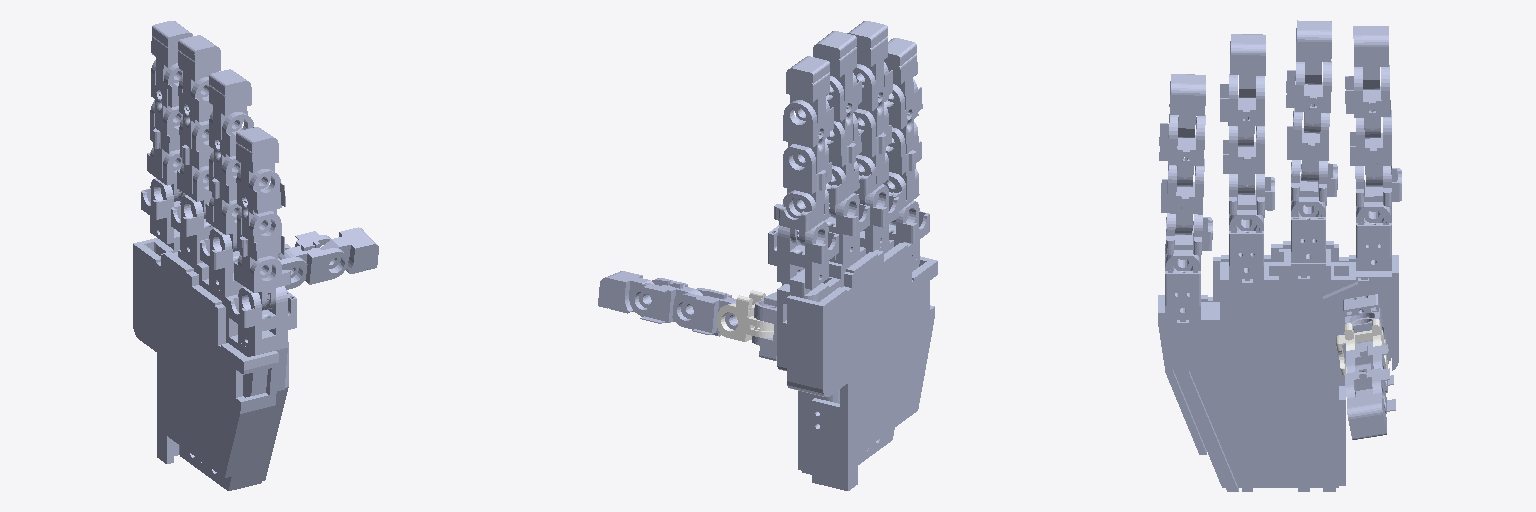
--- What the picture shows (computed from the rendered views, not written in the file) ---
3 views of the same robot in one strip: view 1: azimuth 30°, elevation 25°; view 2: azimuth 150°, elevation 25°; view 3: azimuth 270°, elevation 25° (orthographic).
Robot: pantheon_hand — 21 links, 20 joints (20 revolute); root link base_link; default pose: all joints at 0.
Links seen in each view (by area): view 1: base_link, 3_1_1_link, 3_2_3_link, 3_1_3_link, 3_5_2_link, 3_1_2_link, 3_3_3_link, 3_5_3_link, 3_1_link, 3_4_3_link, 3_4_1_link, 3_3_1_link (+8 smaller); view 2: base_link, 3_4_3_link, 3_4_1_link, 3_4_2_link, 3_5_1_link, 3_5_2_link, 3_3_3_link, 3_2_3_link, 3_5_link, 3_4_link, 3_5_3_link, 3_1_3_link (+9 smaller); view 3: base_link, 3_3_2_link, 3_1_2_link, 3_2_2_link, 3_4_2_link, 3_1_1_link, 3_3_1_link, 3_4_1_link, 3_2_1_link, 3_2_3_link, 3_1_3_link, 3_3_3_link (+9 smaller).
Boxes of the visible links, x1,y1,x2,y2 form: base_link: (133, 178, 296, 490); 3_1_1_link: (237, 208, 284, 284); 3_2_3_link: (209, 69, 251, 139); 3_1_3_link: (236, 127, 278, 196); 3_5_2_link: (278, 231, 347, 284); 3_1_2_link: (236, 167, 285, 240); 3_3_3_link: (178, 35, 220, 105); 3_5_3_link: (320, 227, 378, 273); 3_1_link: (234, 255, 290, 310); 3_4_3_link: (151, 21, 192, 90); 3_4_1_link: (150, 100, 182, 176); 3_3_1_link: (179, 118, 213, 193); base_link: (752, 184, 937, 490); 3_4_3_link: (786, 56, 829, 129); 3_4_1_link: (783, 142, 831, 219); 3_4_2_link: (783, 99, 833, 173); 3_5_1_link: (672, 288, 737, 336); 3_5_2_link: (631, 278, 702, 323); 3_3_3_link: (813, 31, 856, 103); 3_2_3_link: (847, 21, 887, 92); 3_5_link: (717, 290, 773, 341); 3_4_link: (774, 189, 828, 245); 3_5_3_link: (598, 271, 653, 313); 3_1_3_link: (884, 38, 917, 109); base_link: (1158, 197, 1398, 491); 3_3_2_link: (1286, 61, 1331, 133); 3_1_2_link: (1159, 114, 1205, 186); 3_2_2_link: (1220, 74, 1264, 146); 3_4_2_link: (1345, 65, 1390, 138); 3_1_1_link: (1161, 159, 1204, 234); 3_3_1_link: (1287, 108, 1329, 181); 3_4_1_link: (1350, 110, 1391, 186); 3_2_1_link: (1223, 126, 1264, 194); 3_2_3_link: (1230, 34, 1265, 97); 3_1_3_link: (1169, 74, 1205, 137); 3_3_3_link: (1296, 20, 1331, 84).
Bounding box of the posed robot: 0.0947 × 0.0827 × 0.1703 m (x, y, z).
21 mesh visuals loaded from 21 distinct referenced files (21 binary STL).

robot.urdf — pantheon_hand:
<?xml version="1.0" encoding="utf-8"?>
<!-- This URDF was automatically created by SolidWorks to URDF Exporter! Originally created by Stephen Brawner ([email redacted]) 
     Commit Version: 1.6.0-4-g7f85cfe  Build Version: 1.6.7995.38578
     For more information, please see http://wiki.ros.org/sw_urdf_exporter -->
<robot
  name="pantheon_hand">
  <link
    name="base_link">
    <inertial>
      <origin
        xyz="-0.0088293 0.0019617 0.005917"
        rpy="0 0 0" />
      <mass
        value="0.084016" />
      <inertia
        ixx="6.0876E-05"
        ixy="-7.5399E-08"
        ixz="3.4125E-07"
        iyy="3.6342E-05"
        iyz="-4.561E-06"
        izz="2.7735E-05" />
    </inertial>
    <visual>
      <origin
        xyz="0 0 0"
        rpy="0 0 0" />
      <geometry>
        <mesh
          filename="meshes/base_link.STL" />
      </geometry>
      <material
        name="">
        <color
          rgba="0.79216 0.81961 0.93333 1" />
      </material>
    </visual>
    <collision>
      <origin
        xyz="0 0 0"
        rpy="0 0 0" />
      <geometry>
        <mesh
          filename="meshes/base_link.STL" />
      </geometry>
    </collision>
  </link>
  <link
    name="3_1_link">
    <inertial>
      <origin
        xyz="0.000632948713201256 -0.0113601977031796 -0.00708457553329409"
        rpy="0 0 0" />
      <mass
        value="0.00143712940288946" />
      <inertia
        ixx="5.58975011242184E-08"
        ixy="5.20265325377832E-10"
        ixz="1.6392118735057E-09"
        iyy="6.51370366660432E-08"
        iyz="1.09096337854037E-09"
        izz="4.80361998414695E-08" />
    </inertial>
    <visual>
      <origin
        xyz="0 0 0"
        rpy="0 0 0" />
      <geometry>
        <mesh
          filename="meshes/3_1_link.STL" />
      </geometry>
      <material
        name="">
        <color
          rgba="0.792156862745098 0.819607843137255 0.933333333333333 1" />
      </material>
    </visual>
    <collision>
      <origin
        xyz="0 0 0"
        rpy="0 0 0" />
      <geometry>
        <mesh
          filename="meshes/3_1_link.STL" />
      </geometry>
    </collision>
  </link>
  <joint
    name="3_1_joint"
    type="revolute">
    <origin
      xyz="0.0037497 -0.030164 0.038749"
      rpy="3.1416 0.039589 1.5708" />
    <parent
      link="base_link" />
    <child
      link="3_1_link" />
    <axis
      xyz="0 1 0" />
    <limit
      lower="-3.14"
      upper="3.14"
      effort="0"
      velocity="0" />
  </joint>
  <link
    name="3_1_1_link">
    <inertial>
      <origin
        xyz="-3.92102905052705E-05 -0.000199146290594088 -0.00907165890077516"
        rpy="0 0 0" />
      <mass
        value="0.0020563530564885" />
      <inertia
        ixx="1.07744671847437E-07"
        ixy="1.60574868120486E-11"
        ixz="-7.8791562322019E-11"
        iyy="1.01748380513167E-07"
        iyz="3.56214234918847E-09"
        izz="5.27452392510831E-08" />
    </inertial>
    <visual>
      <origin
        xyz="0 0 0"
        rpy="0 0 0" />
      <geometry>
        <mesh
          filename="meshes/3_1_1_link.STL" />
      </geometry>
      <material
        name="">
        <color
          rgba="0.792156862745098 0.819607843137255 0.933333333333333 1" />
      </material>
    </visual>
    <collision>
      <origin
        xyz="0 0 0"
        rpy="0 0 0" />
      <geometry>
        <mesh
          filename="meshes/3_1_1_link.STL" />
      </geometry>
    </collision>
  </link>
  <joint
    name="3_1_1_joint"
    type="revolute">
    <origin
      xyz="-0.0002 -0.0119 -0.013003"
      rpy="0 0 0" />
    <parent
      link="3_1_link" />
    <child
      link="3_1_1_link" />
    <axis
      xyz="1 0 0" />
    <limit
      lower="-3.14"
      upper="3.14"
      effort="0"
      velocity="0" />
  </joint>
  <link
    name="3_1_2_link">
    <inertial>
      <origin
        xyz="-8.12908772386822E-05 1.68560909165616E-05 -0.00867162019943626"
        rpy="0 0 0" />
      <mass
        value="0.00182203187679926" />
      <inertia
        ixx="8.9566713499434E-08"
        ixy="2.02762392830801E-13"
        ixz="-5.29411112427957E-10"
        iyy="8.76021510299218E-08"
        iyz="3.51905980500272E-09"
        izz="4.61913662604361E-08" />
    </inertial>
    <visual>
      <origin
        xyz="0 0 0"
        rpy="0 0 0" />
      <geometry>
        <mesh
          filename="meshes/3_1_2_link.STL" />
      </geometry>
      <material
        name="">
        <color
          rgba="0.792156862745098 0.819607843137255 0.933333333333333 1" />
      </material>
    </visual>
    <collision>
      <origin
        xyz="0 0 0"
        rpy="0 0 0" />
      <geometry>
        <mesh
          filename="meshes/3_1_2_link.STL" />
      </geometry>
    </collision>
  </link>
  <joint
    name="3_1_2_joint"
    type="revolute">
    <origin
      xyz="-0.000350000000000003 0 -0.018"
      rpy="0 0 0" />
    <parent
      link="3_1_1_link" />
    <child
      link="3_1_2_link" />
    <axis
      xyz="1 0 0" />
    <limit
      lower="-3.14"
      upper="3.14"
      effort="0"
      velocity="0" />
  </joint>
  <link
    name="3_1_3_link">
    <inertial>
      <origin
        xyz="-5.12117202697282E-06 -0.000725635823516674 -0.0096227705070633"
        rpy="0 0 0" />
      <mass
        value="0.00198313864642305" />
      <inertia
        ixx="8.17004014457898E-08"
        ixy="-4.8742914220502E-11"
        ixz="3.90166589251583E-11"
        iyy="7.95226212822687E-08"
        iyz="4.57373117943126E-09"
        izz="3.93747699115029E-08" />
    </inertial>
    <visual>
      <origin
        xyz="0 0 0"
        rpy="0 0 0" />
      <geometry>
        <mesh
          filename="meshes/3_1_3_link.STL" />
      </geometry>
      <material
        name="">
        <color
          rgba="0.792156862745098 0.819607843137255 0.933333333333333 1" />
      </material>
    </visual>
    <collision>
      <origin
        xyz="0 0 0"
        rpy="0 0 0" />
      <geometry>
        <mesh
          filename="meshes/3_1_3_link.STL" />
      </geometry>
    </collision>
  </link>
  <joint
    name="3_1_3_joint"
    type="revolute">
    <origin
      xyz="-0.000200000000000006 0 -0.0175"
      rpy="0 0 0" />
    <parent
      link="3_1_2_link" />
    <child
      link="3_1_3_link" />
    <axis
      xyz="1 0 0" />
    <limit
      lower="-3.14"
      upper="3.14"
      effort="0"
      velocity="0" />
  </joint>
  <link
    name="3_2_link">
    <inertial>
      <origin
        xyz="0.00063294859234099 -0.0113615538901578 -0.00708457533316939"
        rpy="0 0 0" />
      <mass
        value="0.00143712953132904" />
      <inertia
        ixx="5.58975033099214E-08"
        ixy="5.20266102758222E-10"
        ixz="1.6392131646724E-09"
        iyy="6.5137038425299E-08"
        iyz="1.09096306332321E-09"
        izz="4.80362002109154E-08" />
    </inertial>
    <visual>
      <origin
        xyz="0 0 0"
        rpy="0 0 0" />
      <geometry>
        <mesh
          filename="meshes/3_2_link.STL" />
      </geometry>
      <material
        name="">
        <color
          rgba="0.792156862745098 0.819607843137255 0.933333333333333 1" />
      </material>
    </visual>
    <collision>
      <origin
        xyz="0 0 0"
        rpy="0 0 0" />
      <geometry>
        <mesh
          filename="meshes/3_2_link.STL" />
      </geometry>
    </collision>
  </link>
  <joint
    name="3_2_joint"
    type="revolute">
    <origin
      xyz="0.0039511 -0.0086642 0.053749"
      rpy="3.1416 0.014515 1.5708" />
    <parent
      link="base_link" />
    <child
      link="3_2_link" />
    <axis
      xyz="0 1 0" />
    <limit
      lower="-3.14"
      upper="3.14"
      effort="0"
      velocity="0" />
  </joint>
  <link
    name="3_2_1_link">
    <inertial>
      <origin
        xyz="-3.92102951234791E-05 -0.000199146290408819 -0.0090716588987563"
        rpy="0 0 0" />
      <mass
        value="0.00205635305680151" />
      <inertia
        ixx="1.07744671877702E-07"
        ixy="1.60575206204026E-11"
        ixz="-7.87915223719029E-11"
        iyy="1.0174838055022E-07"
        iyz="3.56214233600382E-09"
        izz="5.27452392562962E-08" />
    </inertial>
    <visual>
      <origin
        xyz="0 0 0"
        rpy="0 0 0" />
      <geometry>
        <mesh
          filename="meshes/3_2_1_link.STL" />
      </geometry>
      <material
        name="">
        <color
          rgba="0.792156862745098 0.819607843137255 0.933333333333333 1" />
      </material>
    </visual>
    <collision>
      <origin
        xyz="0 0 0"
        rpy="0 0 0" />
      <geometry>
        <mesh
          filename="meshes/3_2_1_link.STL" />
      </geometry>
    </collision>
  </link>
  <joint
    name="3_2_1_joint"
    type="revolute">
    <origin
      xyz="-0.00020000000000002 -0.0119011019123433 -0.0130026361286545"
      rpy="0 0 0" />
    <parent
      link="3_2_link" />
    <child
      link="3_2_1_link" />
    <axis
      xyz="1 0 0" />
    <limit
      lower="-3.14"
      upper="3.14"
      effort="0"
      velocity="0" />
  </joint>
  <link
    name="3_2_2_link">
    <inertial>
      <origin
        xyz="-8.12908993588907E-05 1.68563261277177E-05 -0.00867162007442783"
        rpy="0 0 0" />
      <mass
        value="0.00182203208137363" />
      <inertia
        ixx="8.95667163326566E-08"
        ixy="2.02473785078912E-13"
        ixz="-5.29410818196615E-10"
        iyy="8.76021515939074E-08"
        iyz="3.519060085145E-09"
        izz="4.61913683267398E-08" />
    </inertial>
    <visual>
      <origin
        xyz="0 0 0"
        rpy="0 0 0" />
      <geometry>
        <mesh
          filename="meshes/3_2_2_link.STL" />
      </geometry>
      <material
        name="">
        <color
          rgba="0.792156862745098 0.819607843137255 0.933333333333333 1" />
      </material>
    </visual>
    <collision>
      <origin
        xyz="0 0 0"
        rpy="0 0 0" />
      <geometry>
        <mesh
          filename="meshes/3_2_2_link.STL" />
      </geometry>
    </collision>
  </link>
  <joint
    name="3_2_2_joint"
    type="revolute">
    <origin
      xyz="-0.000349999999999948 0 -0.018"
      rpy="0 0 0" />
    <parent
      link="3_2_1_link" />
    <child
      link="3_2_2_link" />
    <axis
      xyz="1 0 0" />
    <limit
      lower="-3.14"
      upper="3.14"
      effort="0"
      velocity="0" />
  </joint>
  <link
    name="3_2_3_link">
    <inertial>
      <origin
        xyz="-5.1211720269867E-06 -0.000725635823516674 -0.00962277050706326"
        rpy="0 0 0" />
      <mass
        value="0.00198313864642305" />
      <inertia
        ixx="8.17004014457897E-08"
        ixy="-4.87429142204929E-11"
        ixz="3.90166589251253E-11"
        iyy="7.95226212822687E-08"
        iyz="4.57373117943127E-09"
        izz="3.9374769911503E-08" />
    </inertial>
    <visual>
      <origin
        xyz="0 0 0"
        rpy="0 0 0" />
      <geometry>
        <mesh
          filename="meshes/3_2_3_link.STL" />
      </geometry>
      <material
        name="">
        <color
          rgba="0.792156862745098 0.819607843137255 0.933333333333333 1" />
      </material>
    </visual>
    <collision>
      <origin
        xyz="0 0 0"
        rpy="0 0 0" />
      <geometry>
        <mesh
          filename="meshes/3_2_3_link.STL" />
      </geometry>
    </collision>
  </link>
  <joint
    name="3_2_3_joint"
    type="revolute">
    <origin
      xyz="0.000199999999999964 0 -0.0175"
      rpy="0 0 0" />
    <parent
      link="3_2_2_link" />
    <child
      link="3_2_3_link" />
    <axis
      xyz="1 0 0" />
    <limit
      lower="-3.14"
      upper="3.14"
      effort="0"
      velocity="0" />
  </joint>
  <link
    name="3_3_link">
    <inertial>
      <origin
        xyz="0.000632948642662452 -0.0113611515206792 -0.00708457541578034"
        rpy="0 0 0" />
      <mass
        value="0.00143712947911098" />
      <inertia
        ixx="5.58975024196684E-08"
        ixy="5.20265785641294E-10"
        ixz="1.63921265059041E-09"
        iyy="6.51370377317784E-08"
        iyz="1.0909631906409E-09"
        izz="4.80362000895725E-08" />
    </inertial>
    <visual>
      <origin
        xyz="0 0 0"
        rpy="0 0 0" />
      <geometry>
        <mesh
          filename="meshes/3_3_link.STL" />
      </geometry>
      <material
        name="">
        <color
          rgba="0.792156862745098 0.819607843137255 0.933333333333333 1" />
      </material>
    </visual>
    <collision>
      <origin
        xyz="0 0 0"
        rpy="0 0 0" />
      <geometry>
        <mesh
          filename="meshes/3_3_link.STL" />
      </geometry>
    </collision>
  </link>
  <joint
    name="3_3_joint"
    type="revolute">
    <origin
      xyz="0.0038507 0.012336 0.058749"
      rpy="3.1416 0.024761 1.5708" />
    <parent
      link="base_link" />
    <child
      link="3_3_link" />
    <axis
      xyz="0 1 0" />
    <limit
      lower="-3.14"
      upper="3.14"
      effort="0"
      velocity="0" />
  </joint>
  <link
    name="3_3_1_link">
    <inertial>
      <origin
        xyz="-3.92102933091457E-05 -0.000199146290487145 -0.00907165889953535"
        rpy="0 0 0" />
      <mass
        value="0.00205635305667756" />
      <inertia
        ixx="1.07744671865998E-07"
        ixy="1.60575073452117E-11"
        ixz="-7.87915380776806E-11"
        iyy="1.0174838053584E-07"
        iyz="3.56214234110638E-09"
        izz="5.27452392540909E-08" />
    </inertial>
    <visual>
      <origin
        xyz="0 0 0"
        rpy="0 0 0" />
      <geometry>
        <mesh
          filename="meshes/3_3_1_link.STL" />
      </geometry>
      <material
        name="">
        <color
          rgba="0.792156862745098 0.819607843137255 0.933333333333333 1" />
      </material>
    </visual>
    <collision>
      <origin
        xyz="0 0 0"
        rpy="0 0 0" />
      <geometry>
        <mesh
          filename="meshes/3_3_1_link.STL" />
      </geometry>
    </collision>
  </link>
  <joint
    name="3_3_1_joint"
    type="revolute">
    <origin
      xyz="0.000199999999999999 -0.0119006996144669 -0.0130026361286544"
      rpy="0 0 0" />
    <parent
      link="3_3_link" />
    <child
      link="3_3_1_link" />
    <axis
      xyz="1 0 0" />
    <limit
      lower="-3.14"
      upper="3.14"
      effort="0"
      velocity="0" />
  </joint>
  <link
    name="3_3_2_link">
    <inertial>
      <origin
        xyz="-8.12909390994904E-05 1.68563153448431E-05 -0.00867162002485852"
        rpy="0 0 0" />
      <mass
        value="0.00182203211107831" />
      <inertia
        ixx="8.95667166953815E-08"
        ixy="2.02741982873797E-13"
        ixz="-5.29410783975345E-10"
        iyy="8.76021518395639E-08"
        iyz="3.51906008362107E-09"
        izz="4.61913685781039E-08" />
    </inertial>
    <visual>
      <origin
        xyz="0 0 0"
        rpy="0 0 0" />
      <geometry>
        <mesh
          filename="meshes/3_3_2_link.STL" />
      </geometry>
      <material
        name="">
        <color
          rgba="0.792156862745098 0.819607843137255 0.933333333333333 1" />
      </material>
    </visual>
    <collision>
      <origin
        xyz="0 0 0"
        rpy="0 0 0" />
      <geometry>
        <mesh
          filename="meshes/3_3_2_link.STL" />
      </geometry>
    </collision>
  </link>
  <joint
    name="3_3_2_joint"
    type="revolute">
    <origin
      xyz="0.000350000000000072 0 -0.018"
      rpy="0 0 0" />
    <parent
      link="3_3_1_link" />
    <child
      link="3_3_2_link" />
    <axis
      xyz="1 0 0" />
    <limit
      lower="-3.14"
      upper="3.14"
      effort="0"
      velocity="0" />
  </joint>
  <link
    name="3_3_3_link">
    <inertial>
      <origin
        xyz="-5.1211720269867E-06 -0.000725635823516618 -0.00962277050706324"
        rpy="0 0 0" />
      <mass
        value="0.00198313864642305" />
      <inertia
        ixx="8.17004014457898E-08"
        ixy="-4.87429142205054E-11"
        ixz="3.90166589251156E-11"
        iyy="7.95226212822687E-08"
        iyz="4.57373117943127E-09"
        izz="3.93747699115029E-08" />
    </inertial>
    <visual>
      <origin
        xyz="0 0 0"
        rpy="0 0 0" />
      <geometry>
        <mesh
          filename="meshes/3_3_3_link.STL" />
      </geometry>
      <material
        name="">
        <color
          rgba="0.792156862745098 0.819607843137255 0.933333333333333 1" />
      </material>
    </visual>
    <collision>
      <origin
        xyz="0 0 0"
        rpy="0 0 0" />
      <geometry>
        <mesh
          filename="meshes/3_3_3_link.STL" />
      </geometry>
    </collision>
  </link>
  <joint
    name="3_3_3_joint"
    type="revolute">
    <origin
      xyz="-0.00020000000000004 0 -0.0175"
      rpy="0 0 0" />
    <parent
      link="3_3_2_link" />
    <child
      link="3_3_3_link" />
    <axis
      xyz="1 0 0" />
    <limit
      lower="-3.14"
      upper="3.14"
      effort="0"
      velocity="0" />
  </joint>
  <link
    name="3_4_link">
    <inertial>
      <origin
        xyz="0.000441432087432796 -0.0113614580228606 -0.00758037496149258"
        rpy="0 0 0" />
      <mass
        value="0.00143712956968156" />
      <inertia
        ixx="5.59768610532313E-08"
        ixy="5.4825304040235E-10"
        ixz="1.43417954230803E-09"
        iyy="6.5137037719889E-08"
        iyz="1.07717030148693E-09"
        izz="4.79568417411593E-08" />
    </inertial>
    <visual>
      <origin
        xyz="0 0 0"
        rpy="0 0 0" />
      <geometry>
        <mesh
          filename="meshes/3_4_link.STL" />
      </geometry>
      <material
        name="">
        <color
          rgba="0.792156862745098 0.819607843137255 0.933333333333333 1" />
      </material>
    </visual>
    <collision>
      <origin
        xyz="0 0 0"
        rpy="0 0 0" />
      <geometry>
        <mesh
          filename="meshes/3_4_link.STL" />
      </geometry>
    </collision>
  </link>
  <joint
    name="3_4_joint"
    type="revolute">
    <origin
      xyz="0.003651 0.034451 0.056265"
      rpy="3.1416 0.017511 1.5708" />
    <parent
      link="base_link" />
    <child
      link="3_4_link" />
    <axis
      xyz="0 1 0" />
    <limit
      lower="-3.14"
      upper="3.14"
      effort="0"
      velocity="0" />
  </joint>
  <link
    name="3_4_1_link">
    <inertial>
      <origin
        xyz="-3.921029795486E-05 -0.000199146289293628 -0.00907165889813577"
        rpy="0 0 0" />
      <mass
        value="0.00205635305742639" />
      <inertia
        ixx="1.0774467188881E-07"
        ixy="1.60575413206586E-11"
        ixz="-7.87914989675406E-11"
        iyy="1.01748380555412E-07"
        iyz="3.5621423298504E-09"
        izz="5.27452392700368E-08" />
    </inertial>
    <visual>
      <origin
        xyz="0 0 0"
        rpy="0 0 0" />
      <geometry>
        <mesh
          filename="meshes/3_4_1_link.STL" />
      </geometry>
      <material
        name="">
        <color
          rgba="0.792156862745098 0.819607843137255 0.933333333333333 1" />
      </material>
    </visual>
    <collision>
      <origin
        xyz="0 0 0"
        rpy="0 0 0" />
      <geometry>
        <mesh
          filename="meshes/3_4_1_link.STL" />
      </geometry>
    </collision>
  </link>
  <joint
    name="3_4_1_joint"
    type="revolute">
    <origin
      xyz="-0.000144129679845242 -0.0119010060011754 -0.0134852887243264"
      rpy="0 0.0258149552454664 0" />
    <parent
      link="3_4_link" />
    <child
      link="3_4_1_link" />
    <axis
      xyz="0.999999991880506 0 -0.000127432288694384" />
    <limit
      lower="-3.14"
      upper="3.14"
      effort="0"
      velocity="0" />
  </joint>
  <link
    name="3_4_2_link">
    <inertial>
      <origin
        xyz="-8.12912413259287E-05 1.68554717150382E-05 -0.00867161977040247"
        rpy="0 0 0" />
      <mass
        value="0.00182203271103254" />
      <inertia
        ixx="8.95667210840428E-08"
        ixy="2.00250682496111E-13"
        ixz="-5.29409840565553E-10"
        iyy="8.76021511599792E-08"
        iyz="3.51906148743782E-09"
        izz="4.61913743720823E-08" />
    </inertial>
    <visual>
      <origin
        xyz="0 0 0"
        rpy="0 0 0" />
      <geometry>
        <mesh
          filename="meshes/3_4_2_link.STL" />
      </geometry>
      <material
        name="">
        <color
          rgba="0.792156862745098 0.819607843137255 0.933333333333333 1" />
      </material>
    </visual>
    <collision>
      <origin
        xyz="0 0 0"
        rpy="0 0 0" />
      <geometry>
        <mesh
          filename="meshes/3_4_2_link.STL" />
      </geometry>
    </collision>
  </link>
  <joint
    name="3_4_2_joint"
    type="revolute">
    <origin
      xyz="-0.000349999999999982 0 -0.018"
      rpy="0 0 0" />
    <parent
      link="3_4_1_link" />
    <child
      link="3_4_2_link" />
    <axis
      xyz="0.999999991880506 0 -0.000127432288694715" />
    <limit
      lower="-3.14"
      upper="3.14"
      effort="0"
      velocity="0" />
  </joint>
  <link
    name="3_4_3_link">
    <inertial>
      <origin
        xyz="-5.12117202697282E-06 -0.000725635823516646 -0.00962277050706324"
        rpy="0 0 0" />
      <mass
        value="0.00198313864642305" />
      <inertia
        ixx="8.170040144579E-08"
        ixy="-4.87429142204987E-11"
        ixz="3.90166589251057E-11"
        iyy="7.95226212822688E-08"
        iyz="4.57373117943133E-09"
        izz="3.9374769911503E-08" />
    </inertial>
    <visual>
      <origin
        xyz="0 0 0"
        rpy="0 0 0" />
      <geometry>
        <mesh
          filename="meshes/3_4_3_link.STL" />
      </geometry>
      <material
        name="">
        <color
          rgba="0.792156862745098 0.819607843137255 0.933333333333333 1" />
      </material>
    </visual>
    <collision>
      <origin
        xyz="0 0 0"
        rpy="0 0 0" />
      <geometry>
        <mesh
          filename="meshes/3_4_3_link.STL" />
      </geometry>
    </collision>
  </link>
  <joint
    name="3_4_3_joint"
    type="revolute">
    <origin
      xyz="-0.000199999999999978 0 -0.0175"
      rpy="0 0 0" />
    <parent
      link="3_4_2_link" />
    <child
      link="3_4_3_link" />
    <axis
      xyz="0.999999991880506 0 -0.000127432288699447" />
    <limit
      lower="-3.14"
      upper="3.14"
      effort="0"
      velocity="0" />
  </joint>
  <link
    name="3_5_link">
    <inertial>
      <origin
        xyz="0 0 0"
        rpy="0 0 0" />
      <mass
        value="0" />
      <inertia
        ixx="0"
        ixy="0"
        ixz="0"
        iyy="0"
        iyz="0"
        izz="0" />
    </inertial>
    <visual>
      <origin
        xyz="0 0 0"
        rpy="0 0 0" />
      <geometry>
        <mesh
          filename="meshes/3_5_link.STL" />
      </geometry>
      <material
        name="">
        <color
          rgba="1 1 1 1" />
      </material>
    </visual>
    <collision>
      <origin
        xyz="0 0 0"
        rpy="0 0 0" />
      <geometry>
        <mesh
          filename="meshes/3_5_link.STL" />
      </geometry>
    </collision>
  </link>
  <joint
    name="3_5_joint"
    type="revolute">
    <origin
      xyz="0.00793586220027728 0.0320181111254154 0.016002657202378"
      rpy="1.5707963267949 0.174532925199427 -1.5707963267949" />
    <parent
      link="base_link" />
    <child
      link="3_5_link" />
    <axis
      xyz="0 -1 0" />
    <limit
      lower="-3.14"
      upper="3.14"
      effort="0"
      velocity="0" />
  </joint>
  <link
    name="3_5_1_link">
    <inertial>
      <origin
        xyz="-3.92103023945517E-05 -0.000199146277947954 -0.00907165889323328"
        rpy="0 0 0" />
      <mass
        value="0.00205635306392893" />
      <inertia
        ixx="1.0774467197523E-07"
        ixy="1.60575715249957E-11"
        ixz="-7.87914701213826E-11"
        iyy="1.01748380549146E-07"
        iyz="3.56214227953245E-09"
        izz="5.27452393743725E-08" />
    </inertial>
    <visual>
      <origin
        xyz="0 0 0"
        rpy="0 0 0" />
      <geometry>
        <mesh
          filename="meshes/3_5_1_link.STL" />
      </geometry>
      <material
        name="">
        <color
          rgba="0.792156862745098 0.819607843137255 0.933333333333333 1" />
      </material>
    </visual>
    <collision>
      <origin
        xyz="0 0 0"
        rpy="0 0 0" />
      <geometry>
        <mesh
          filename="meshes/3_5_1_link.STL" />
      </geometry>
    </collision>
  </link>
  <joint
    name="3_5_1_joint"
    type="revolute">
    <origin
      xyz="-0.000200081625710155 0 -0.0130667739283772"
      rpy="0 0 0" />
    <parent
      link="3_5_link" />
    <child
      link="3_5_1_link" />
    <axis
      xyz="1 0 0" />
    <limit
      lower="-3.14"
      upper="3.14"
      effort="0"
      velocity="0" />
  </joint>
  <link
    name="3_5_2_link">
    <inertial>
      <origin
        xyz="-8.12911908460862E-05 1.68555389856717E-05 -0.00867162048274459"
        rpy="0 0 0" />
      <mass
        value="0.00182203248324241" />
      <inertia
        ixx="8.95667087540657E-08"
        ixy="1.991147609202E-13"
        ixz="-5.29409917075371E-10"
        iyy="8.7602146636295E-08"
        iyz="3.51905673301654E-09"
        izz="4.61913649338496E-08" />
    </inertial>
    <visual>
      <origin
        xyz="0 0 0"
        rpy="0 0 0" />
      <geometry>
        <mesh
          filename="meshes/3_5_2_link.STL" />
      </geometry>
      <material
        name="">
        <color
          rgba="0.792156862745098 0.819607843137255 0.933333333333333 1" />
      </material>
    </visual>
    <collision>
      <origin
        xyz="0 0 0"
        rpy="0 0 0" />
      <geometry>
        <mesh
          filename="meshes/3_5_2_link.STL" />
      </geometry>
    </collision>
  </link>
  <joint
    name="3_5_2_joint"
    type="revolute">
    <origin
      xyz="0.000350000000000003 0 -0.0180000000000001"
      rpy="0 0 0" />
    <parent
      link="3_5_1_link" />
    <child
      link="3_5_2_link" />
    <axis
      xyz="1 0 0" />
    <limit
      lower="-3.14"
      upper="3.14"
      effort="0"
      velocity="0" />
  </joint>
  <link
    name="3_5_3_link">
    <inertial>
      <origin
        xyz="-5.1211720269867E-06 -0.000725635823516674 -0.00962277050706328"
        rpy="0 0 0" />
      <mass
        value="0.00198313864642305" />
      <inertia
        ixx="8.17004014457897E-08"
        ixy="-4.87429142204996E-11"
        ixz="3.90166589251244E-11"
        iyy="7.95226212822686E-08"
        iyz="4.57373117943126E-09"
        izz="3.93747699115029E-08" />
    </inertial>
    <visual>
      <origin
        xyz="0 0 0"
        rpy="0 0 0" />
      <geometry>
        <mesh
          filename="meshes/3_5_3_link.STL" />
      </geometry>
      <material
        name="">
        <color
          rgba="0.792156862745098 0.819607843137255 0.933333333333333 1" />
      </material>
    </visual>
    <collision>
      <origin
        xyz="0 0 0"
        rpy="0 0 0" />
      <geometry>
        <mesh
          filename="meshes/3_5_3_link.STL" />
      </geometry>
    </collision>
  </link>
  <joint
    name="3_5_3_joint"
    type="revolute">
    <origin
      xyz="-0.000199999999999992 0 -0.0175"
      rpy="0 0 0" />
    <parent
      link="3_5_2_link" />
    <child
      link="3_5_3_link" />
    <axis
      xyz="1 0 0" />
    <limit
      lower="-3.14"
      upper="3.14"
      effort="0"
      velocity="0" />
  </joint>
</robot>
